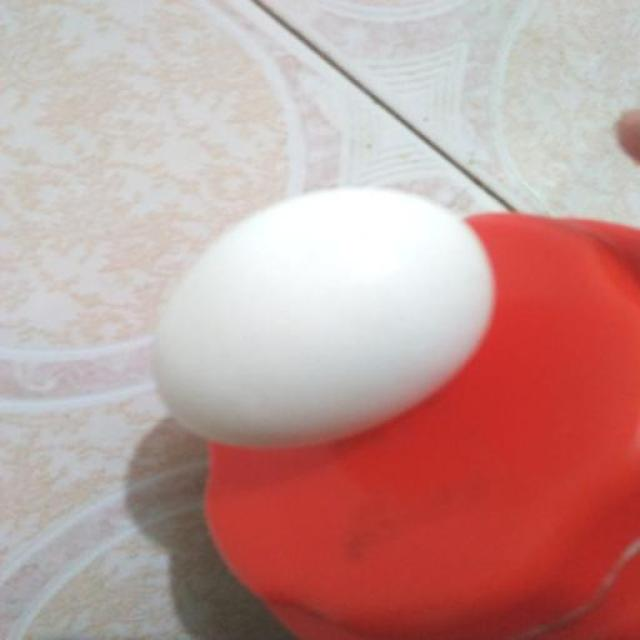telur: (152, 184, 497, 448)
